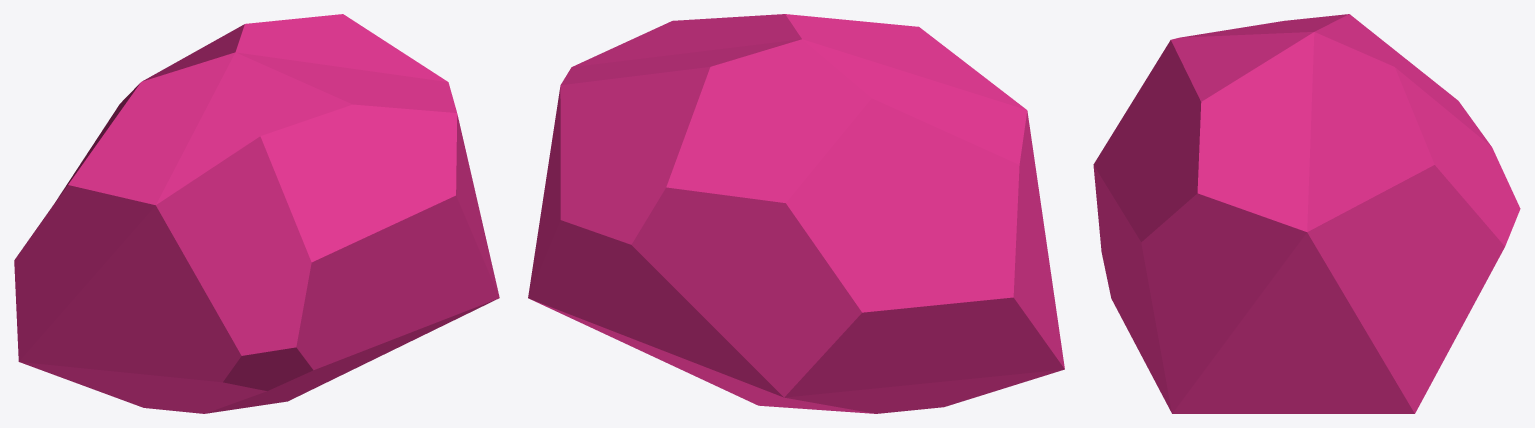
File: untitlessd.fbx
3 views of the same model, side by side, from view 1: azimuth 30°, elevation 25°; view 2: azimuth 150°, elevation 25°; view 3: azimuth 270°, elevation 25° (orthographic). The views are drawn at different scales.
Parts seen in each view (by area): view 1: Icosphere.001; view 2: Icosphere.001; view 3: Icosphere.001.
Part boxes in pixels (x1,y1,x2,y2): Icosphere.001: (14,14,499,413); Icosphere.001: (528,14,1064,413); Icosphere.001: (1093,14,1520,413).
Bounding box in the file's own units: 275 × 193 × 211.
